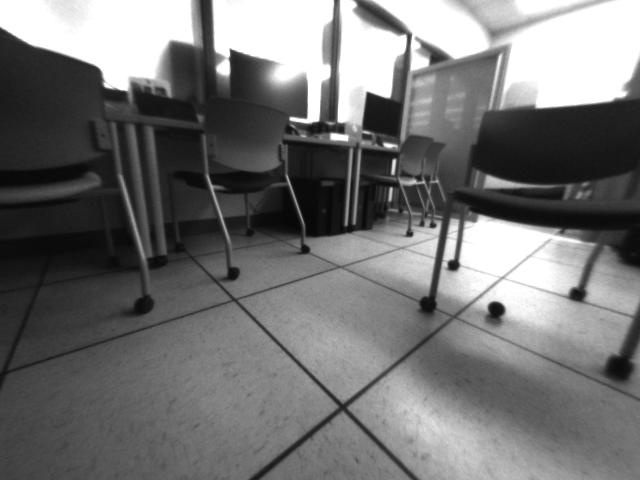dogtoy: (481, 295, 510, 322)
